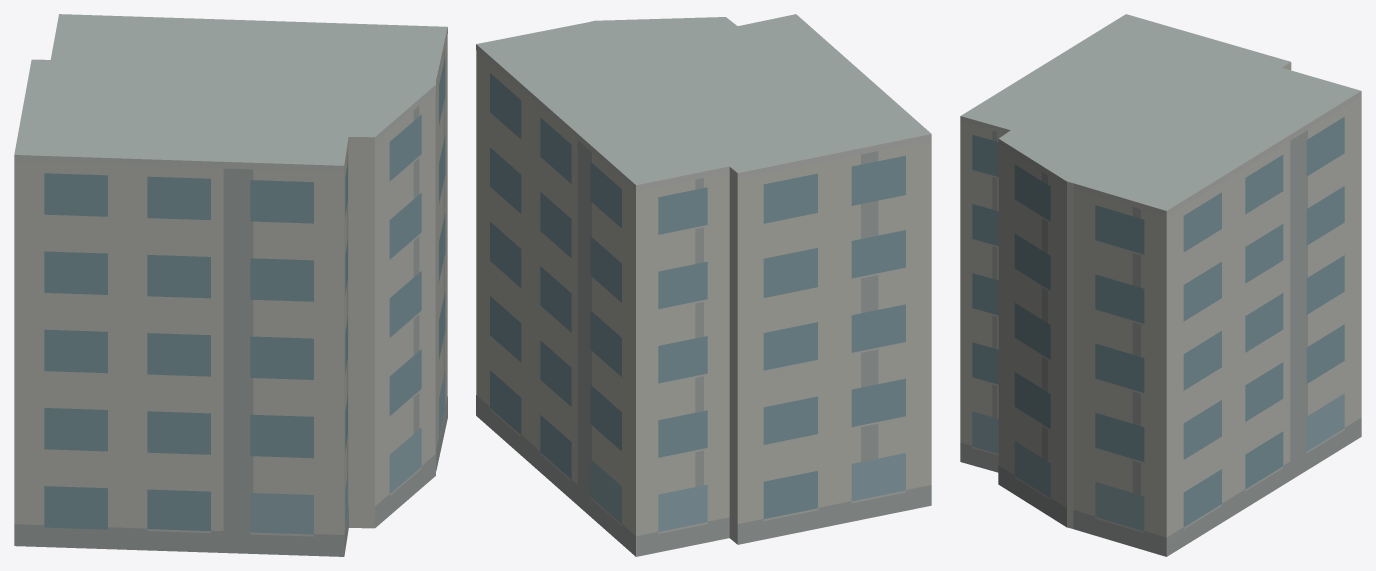
The model's file is survey-upis-32934678.glb.
3 views of the same model, side by side, from view 1: azimuth 30°, elevation 25°; view 2: azimuth 150°, elevation 25°; view 3: azimuth 270°, elevation 25° (orthographic). The views are drawn at different scales.
Visible parts, largest first — view 1: survey-upis-32934678.tmp; view 2: survey-upis-32934678.tmp; view 3: survey-upis-32934678.tmp.
Boxes of the visible parts, bbox=[...] form: survey-upis-32934678.tmp: bbox=[14, 14, 447, 556]; survey-upis-32934678.tmp: bbox=[476, 14, 931, 556]; survey-upis-32934678.tmp: bbox=[960, 14, 1361, 556].
Bounding box in the file's own units: 17.48 × 14.3 × 15.04.
